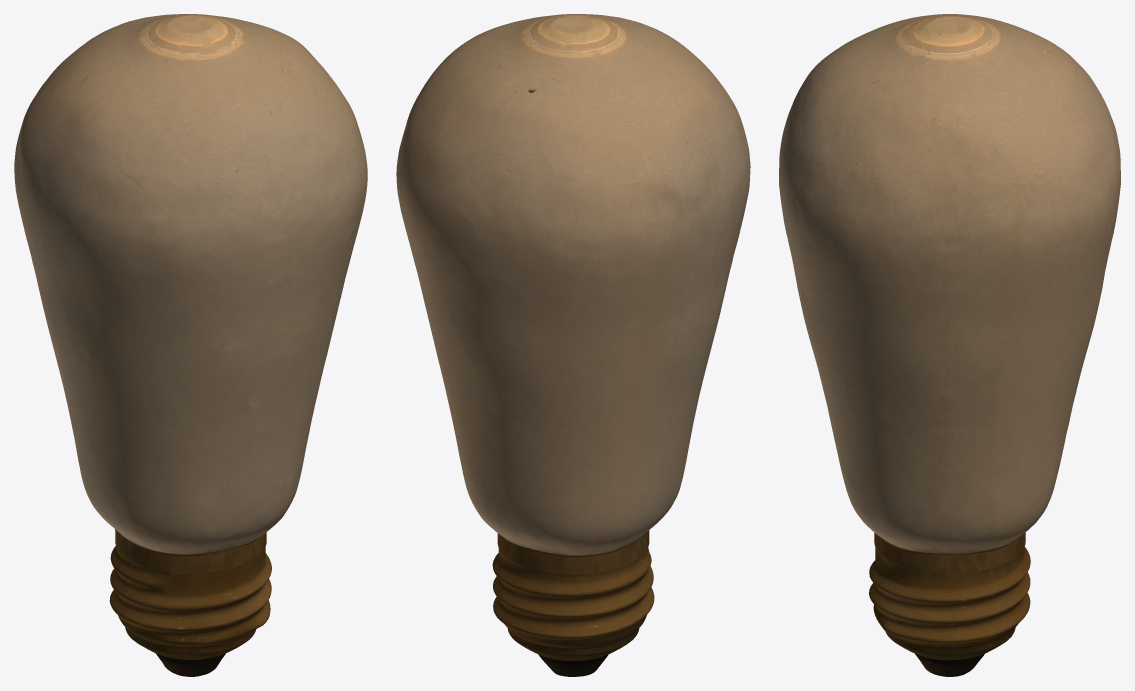
The model's file is Meshy_AI_Vintage_Edison_Bulb_0512174109_texture.fbx.
3 renders of one model, left to right at view 1: azimuth 30°, elevation 25°; view 2: azimuth 150°, elevation 25°; view 3: azimuth 270°, elevation 25°, orthographic.
Visible parts, largest first — view 1: Mesh_0; view 2: Mesh_0; view 3: Mesh_0.
Part boxes in pixels (x1=…): Mesh_0: x1=14, y1=14, x2=367, y2=676; Mesh_0: x1=396, y1=14, x2=750, y2=676; Mesh_0: x1=779, y1=14, x2=1120, y2=676.
Bounding box in the file's own units: 92.17 × 191 × 92.17.
1 material, 1 textured.
